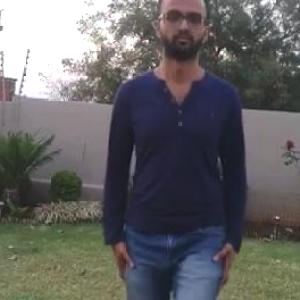follow: (100, 0, 248, 299)
